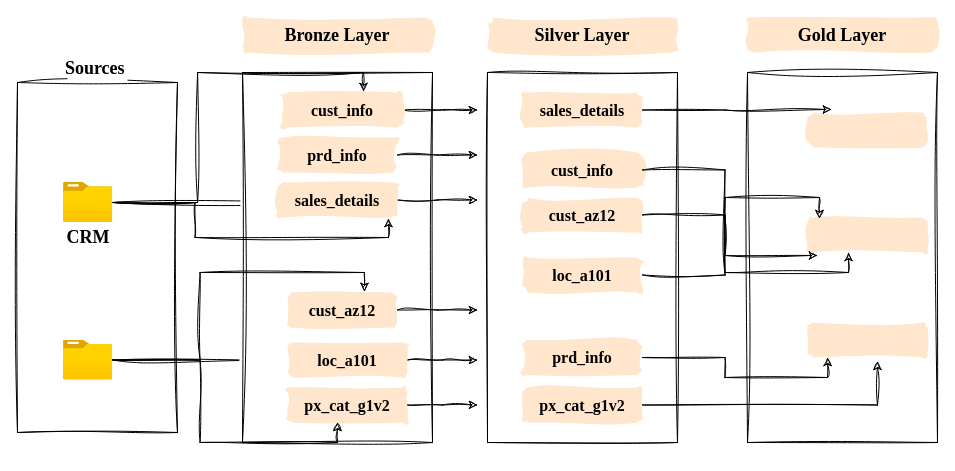
The diagram is 955 pixels wide and 471 high, and some of its shapes have lost their labels. The centre of each missing label's shape, as x and y in pixels:
"dim_customers" goes at point 867,234.
"dim_products" goes at point 867,339.
"ERP" goes at point 88,407.
"fact_sales_detail" goes at point 867,129.
